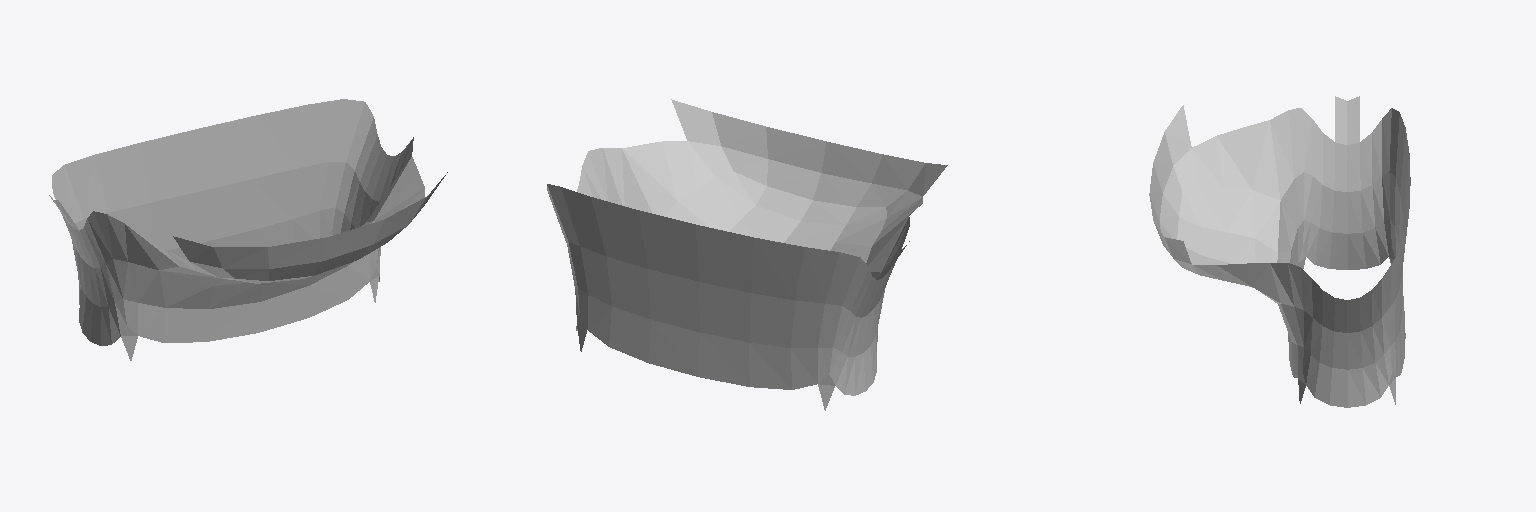
Rendered from CharaGreenKofta.obj.
The picture shows the model from 3 angles: view 1: azimuth 30°, elevation 25°; view 2: azimuth 150°, elevation 25°; view 3: azimuth 270°, elevation 25°; orthographic projection.
Parts seen in each view (by area): view 1: Cube.007_Cube.008; view 2: Cube.007_Cube.008; view 3: Cube.007_Cube.008.
Boxes of the visible parts, x1,y1,x2,y2 form: Cube.007_Cube.008: [49, 99, 447, 360]; Cube.007_Cube.008: [547, 99, 947, 410]; Cube.007_Cube.008: [1149, 96, 1410, 407].
Size of the model in its own units: 0.3919 by 0.193 by 0.2613.